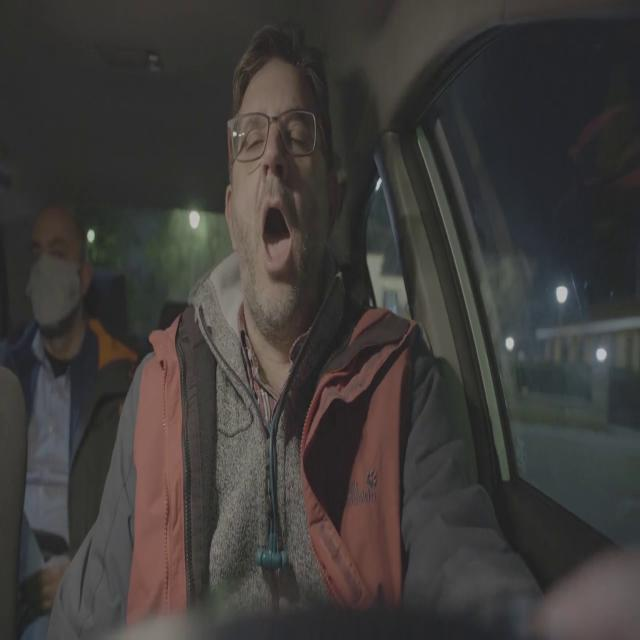open-mouth: (258, 193, 296, 275)
